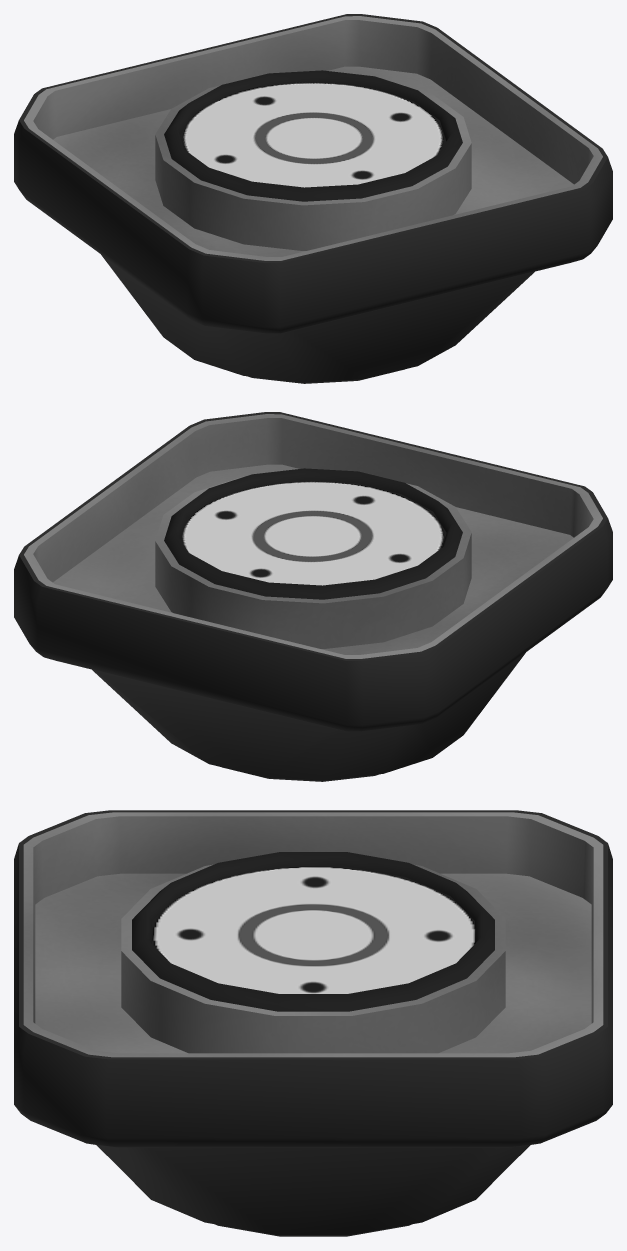
Rendered from heatshield.fbx.
The picture shows the model from 3 angles, top to bottom: view 1: azimuth 30°, elevation 25°; view 2: azimuth 150°, elevation 25°; view 3: azimuth 270°, elevation 25°; orthographic projection. The views are drawn at different scales.
Visible parts, largest first — view 1: square-heatshield, fairing; view 2: square-heatshield, fairing; view 3: square-heatshield, fairing.
Part boxes in pixels (x1,y1,x2,y2): square-heatshield: [24, 16, 602, 260]; fairing: [14, 14, 612, 383]; square-heatshield: [24, 414, 602, 658]; fairing: [14, 412, 612, 781]; square-heatshield: [23, 812, 603, 1057]; fairing: [14, 810, 612, 1236].
Size of what is drawn, in the model's own units: 3.83 by 1.71 by 3.82.
1 material, 1 textured.
